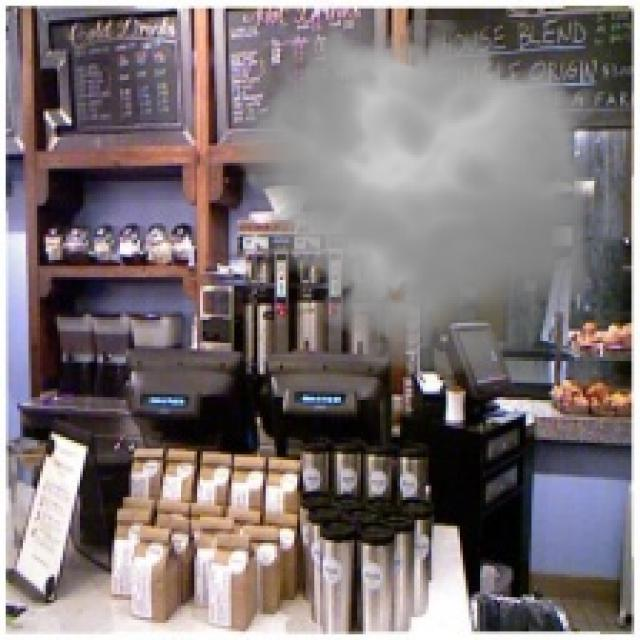smoke: (220, 3, 614, 386)
